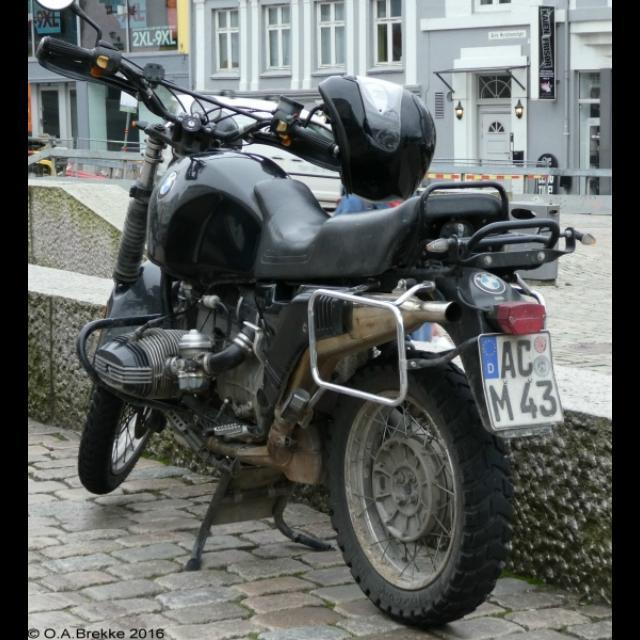license-plates: (479, 332, 564, 432)
